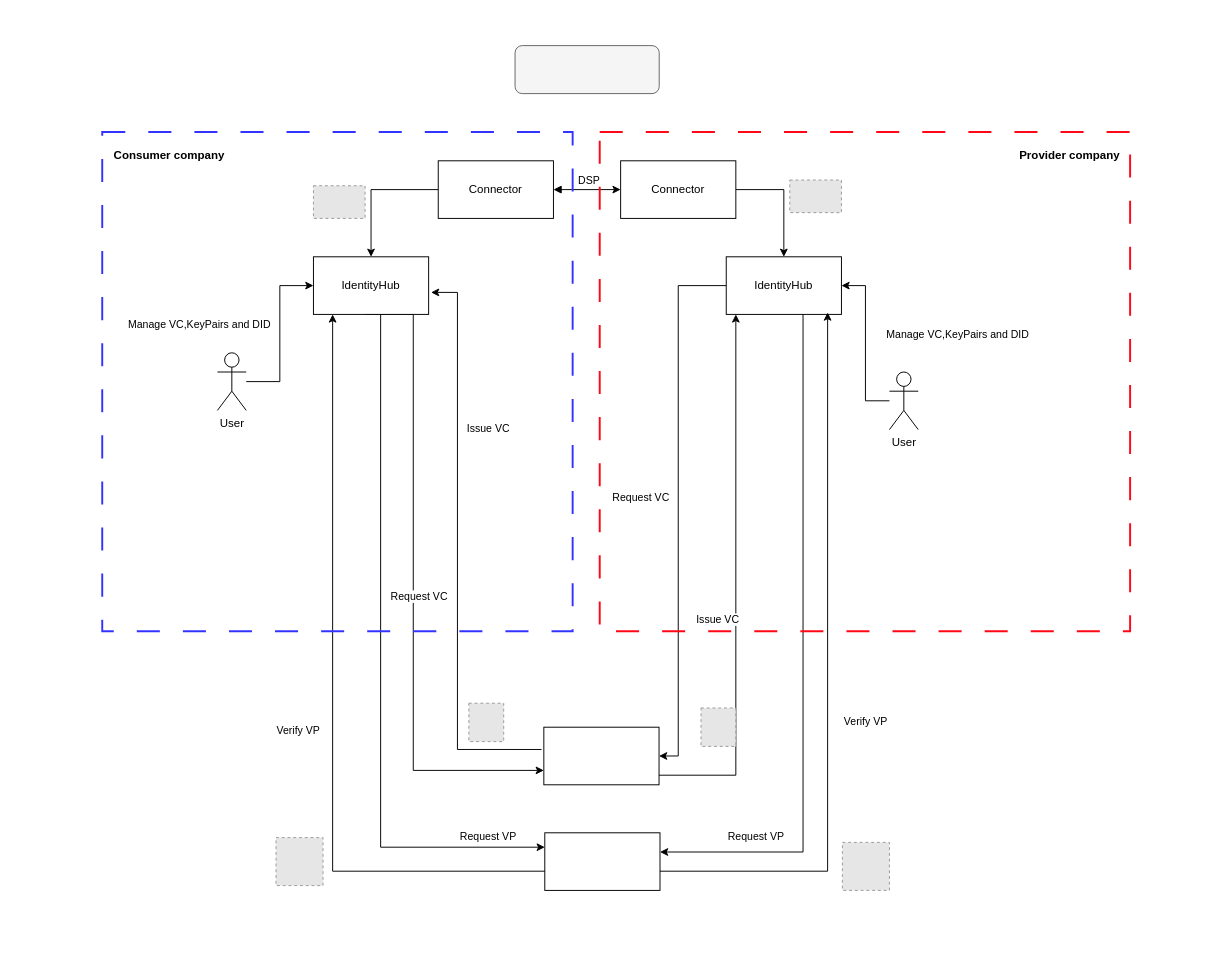
This 1222x954 diagram has some shape labels left out. Grey dashed boxes stand in for pictures. The centre of each missing label's shape, as x and y in pixels:
"Identity Hub Basic Diagram" goes at [586,69].
"Issuer" goes at [601,755].
"Verifier" goes at [602,861].
